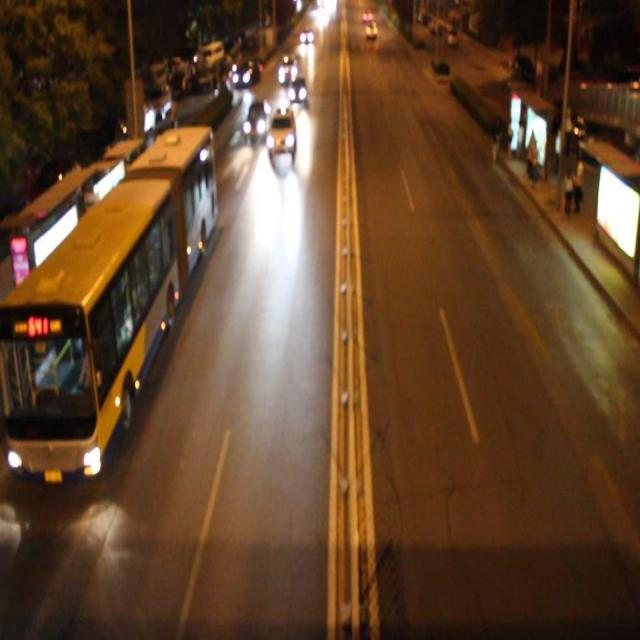car: (267, 107, 297, 156), (244, 98, 271, 138), (288, 72, 308, 107), (278, 52, 298, 85)
van: (1, 130, 214, 483)
